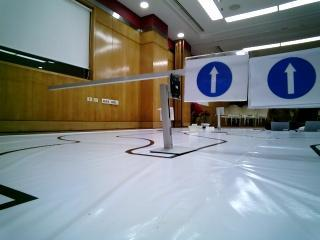straight: (253, 53, 320, 106), (185, 54, 251, 104)
